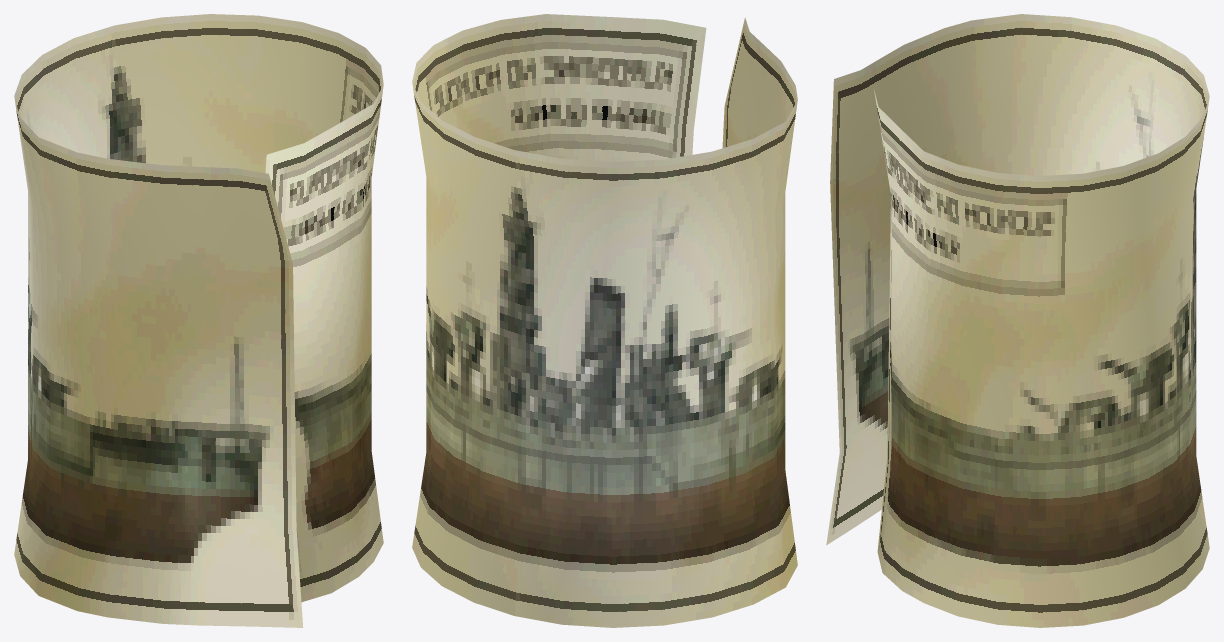
The model's file is ps2_save-icons_navalopswarshipgunner.glb.
The picture shows the model from 3 angles, left to right: view 1: azimuth 30°, elevation 25°; view 2: azimuth 150°, elevation 25°; view 3: azimuth 270°, elevation 25°; orthographic projection. The views are drawn at different scales.
Parts seen in each view (by area): view 1: k2.ico; view 2: k2.ico; view 3: k2.ico.
Boxes of the visible parts, box(x1,y1,x2,y2) form: k2.ico: box(14, 14, 383, 627); k2.ico: box(412, 14, 797, 627); k2.ico: box(826, 14, 1209, 627).
Size of the model in its own units: 2.81 by 3.66 by 2.81.
1 material, 1 textured.
